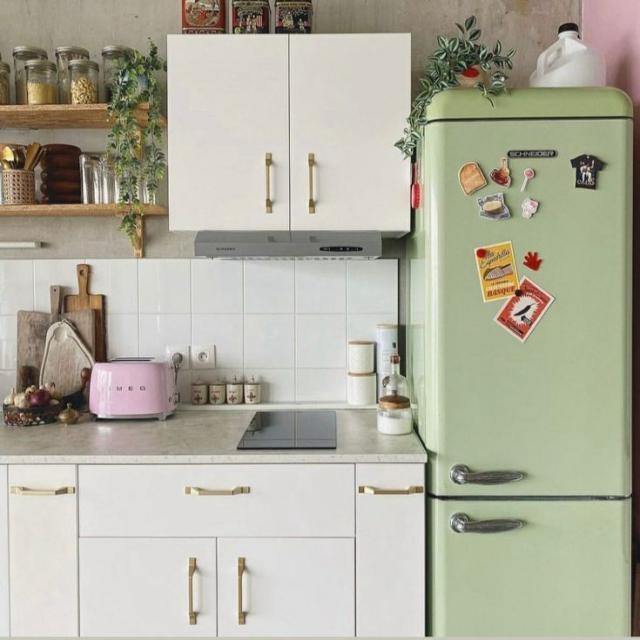obstacle: (404, 84, 634, 638), (165, 31, 413, 238), (77, 462, 356, 638), (0, 102, 167, 258), (2, 462, 78, 638), (354, 462, 427, 638)
